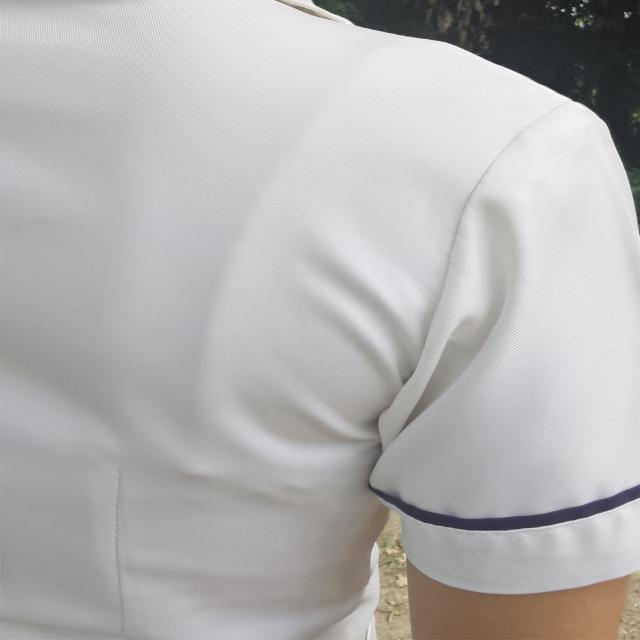education_female_uniform: (0, 1, 640, 614)
